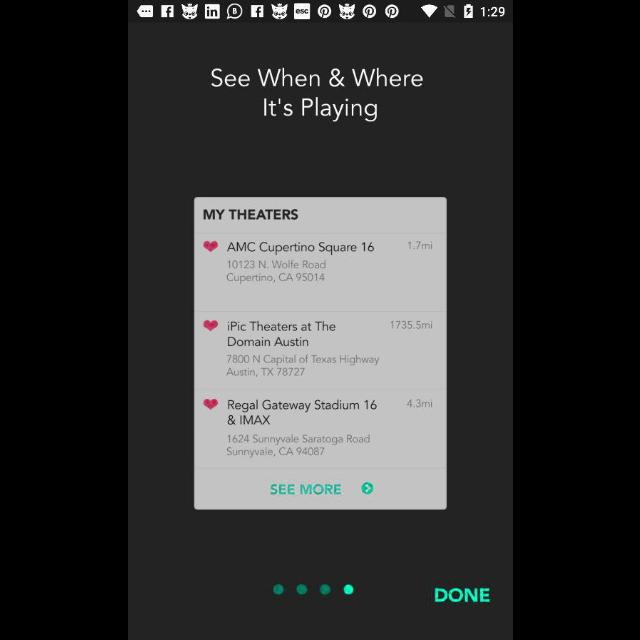image: (194, 198, 446, 510)
pageindicator: (272, 584, 354, 596)
text: (211, 68, 423, 122), (433, 587, 489, 603)
uppertaskbar: (128, 1, 512, 23)
